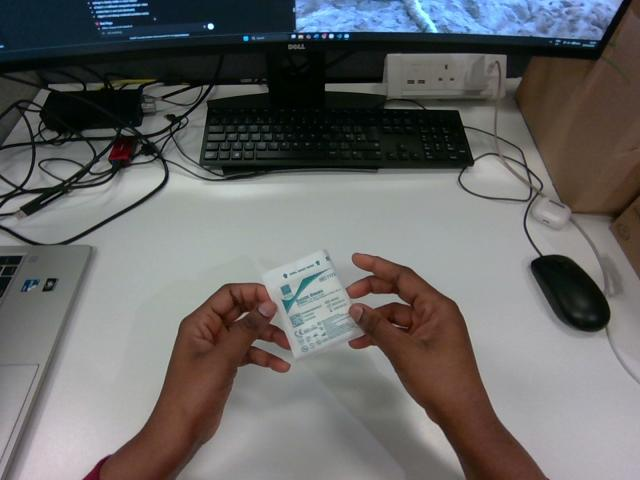gauze: (262, 250, 362, 358)
